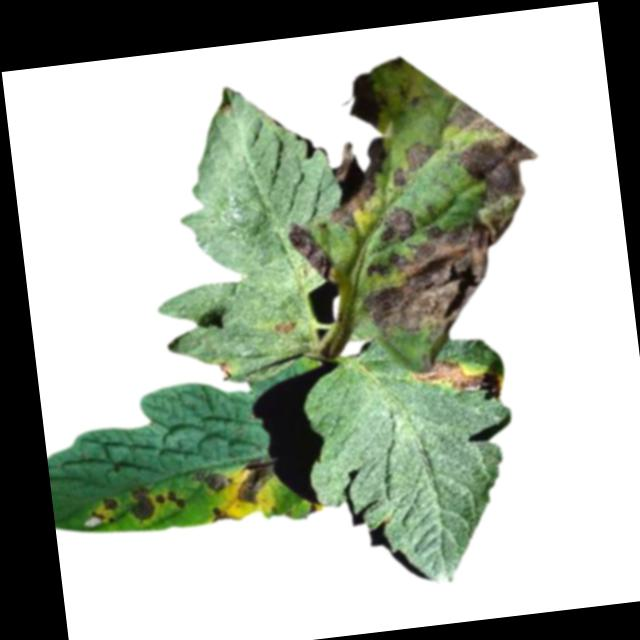Early_blight: (344, 95, 560, 352), (315, 130, 396, 229), (406, 353, 505, 413), (285, 219, 332, 288), (389, 138, 437, 191), (343, 71, 384, 132), (230, 454, 277, 505), (375, 201, 418, 242), (84, 493, 120, 532), (126, 486, 154, 525), (192, 468, 226, 496), (153, 490, 186, 512), (209, 505, 236, 529), (269, 316, 300, 336), (215, 357, 233, 385)
